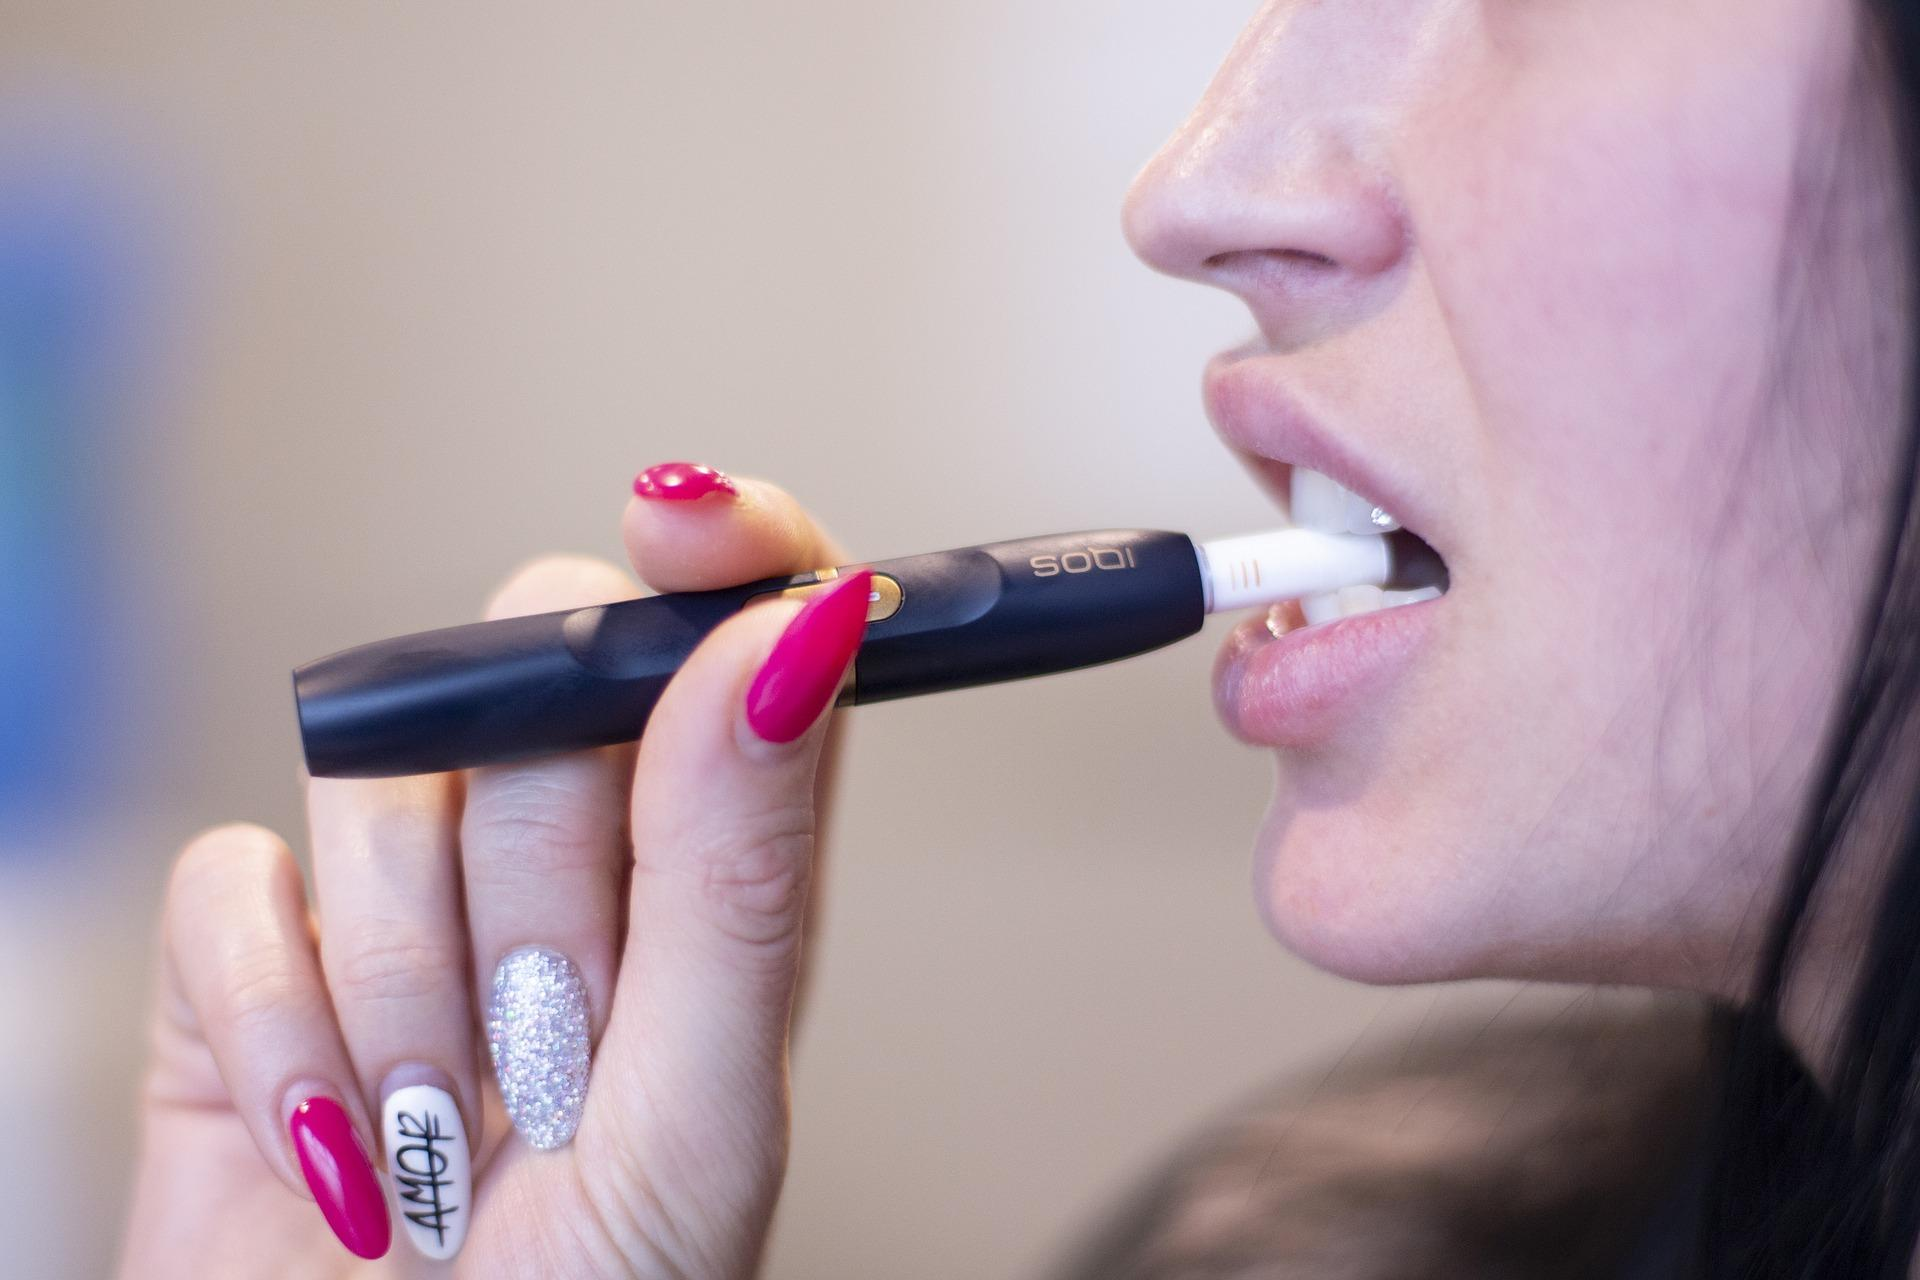iqos: (291, 529, 1396, 781)
